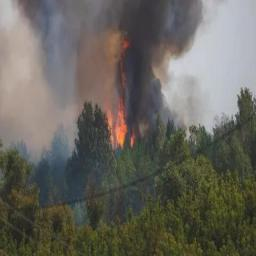Heavy smoke: (0, 1, 246, 196)
Medium fire: (72, 17, 211, 170)
